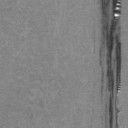slag inclusion: (98, 0, 123, 128)
